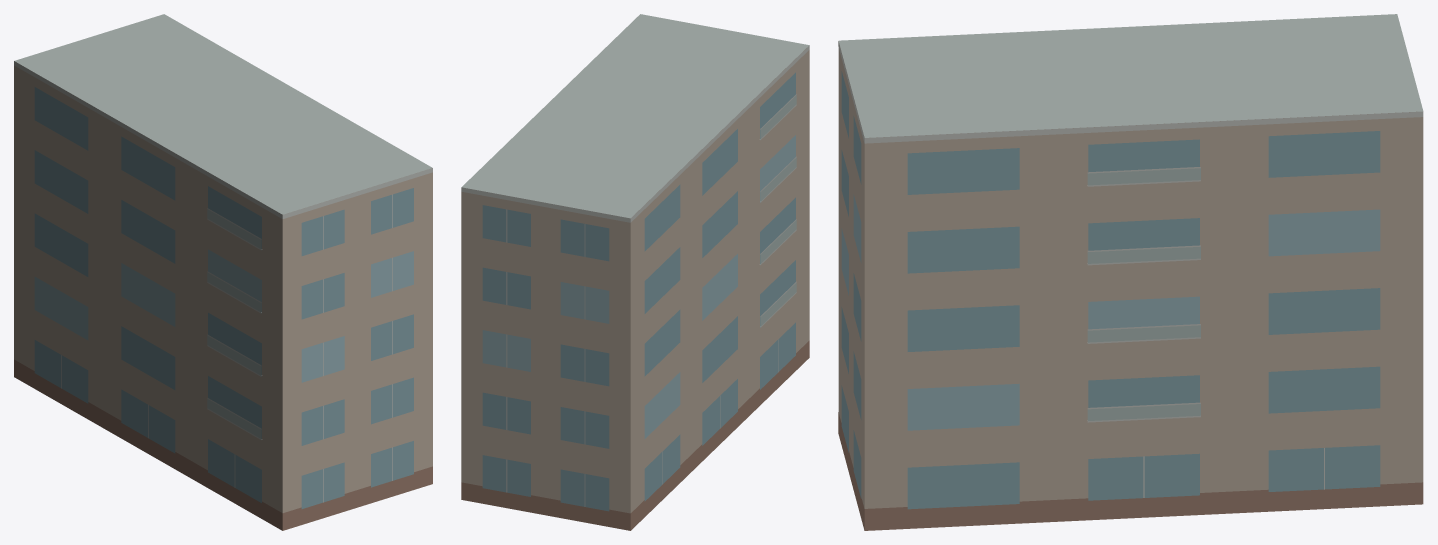
The model's file is survey-upis-33014885.glb.
3 renders of one model, left to right at view 1: azimuth 30°, elevation 25°; view 2: azimuth 150°, elevation 25°; view 3: azimuth 270°, elevation 25°, orthographic. The views are drawn at different scales.
Parts seen in each view (by area): view 1: survey-upis-33014885.tmp; view 2: survey-upis-33014885.tmp; view 3: survey-upis-33014885.tmp.
Part boxes in pixels (x1,y1,x2,y2): survey-upis-33014885.tmp: [14, 14, 432, 530]; survey-upis-33014885.tmp: [461, 14, 809, 530]; survey-upis-33014885.tmp: [838, 14, 1423, 530].
Bounding box in the file's own units: 11.65 × 17.2 × 23.22.
